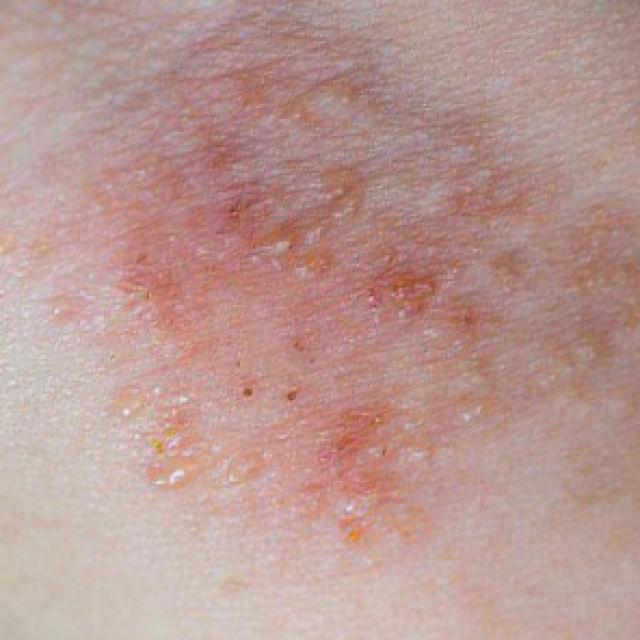AtopicDermatitis: (0, 7, 640, 547)
